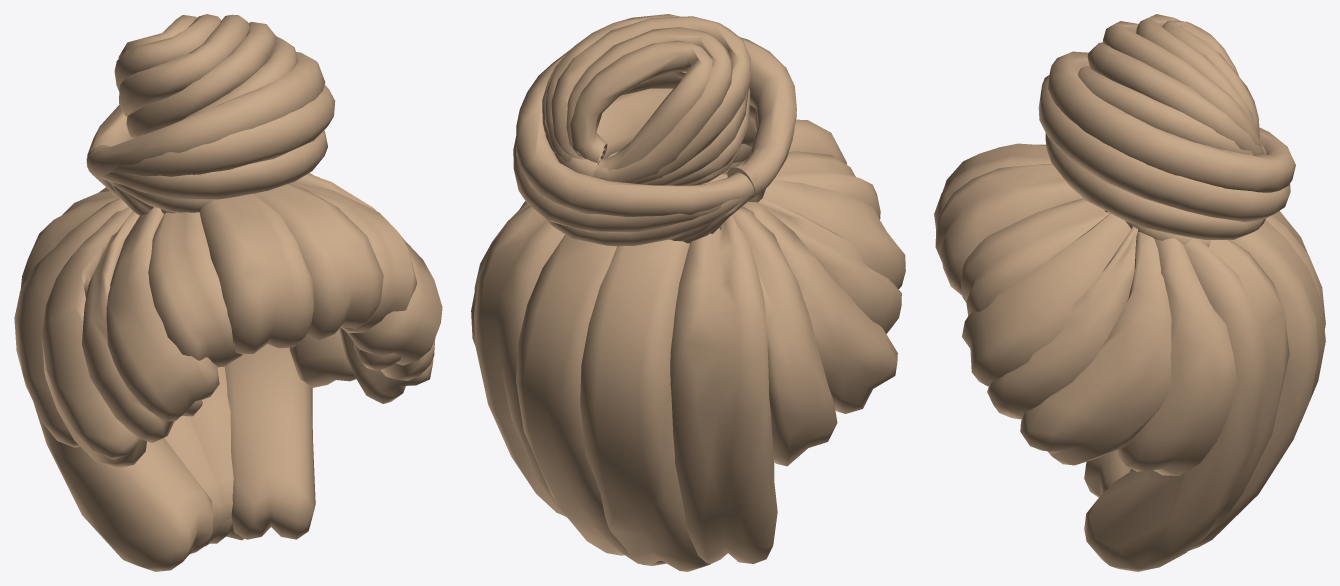
File: hair-4-34260f3e.glb
3 views of the same model, side by side, from view 1: azimuth 30°, elevation 25°; view 2: azimuth 150°, elevation 25°; view 3: azimuth 270°, elevation 25° (orthographic). The views are drawn at different scales.
Parts seen in each view (by area): view 1: Geo_White_Older_Female_Hair_4.001; view 2: Geo_White_Older_Female_Hair_4.001; view 3: Geo_White_Older_Female_Hair_4.001.
Part boxes in pixels (left/top/right/bottom): Geo_White_Older_Female_Hair_4.001: left=14, top=14, right=442, bottom=571; Geo_White_Older_Female_Hair_4.001: left=471, top=14, right=905, bottom=571; Geo_White_Older_Female_Hair_4.001: left=934, top=14, right=1325, bottom=571.
Bounding box in the file's own units: 1.6 × 2.25 × 1.58.
